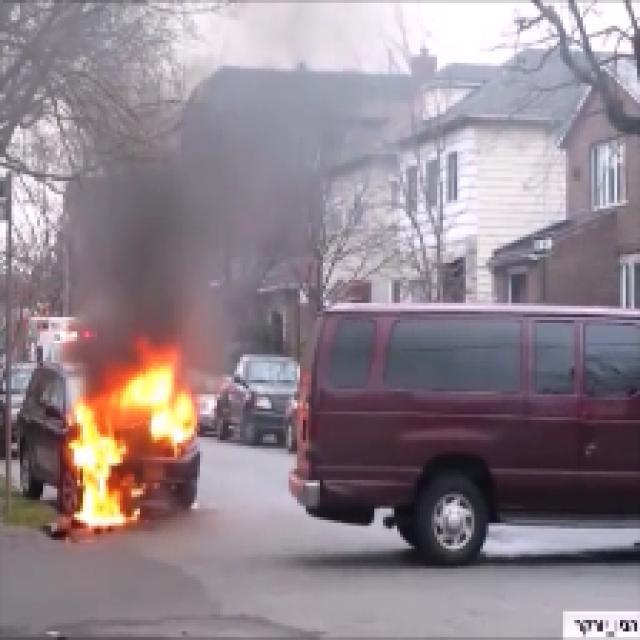Fire: (70, 367, 198, 537)
Smoke: (96, 120, 309, 340)
